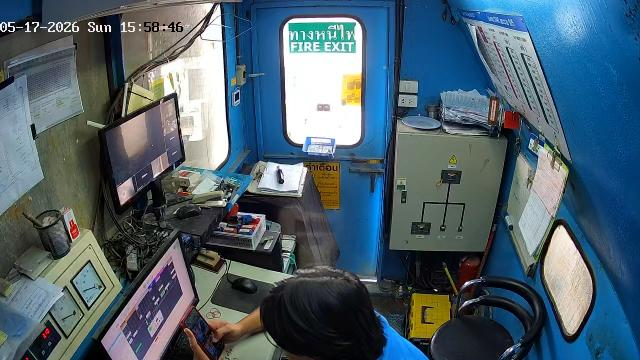Head: (261, 267, 380, 360)
People: (187, 266, 427, 360)
Phone: (179, 306, 226, 360)
